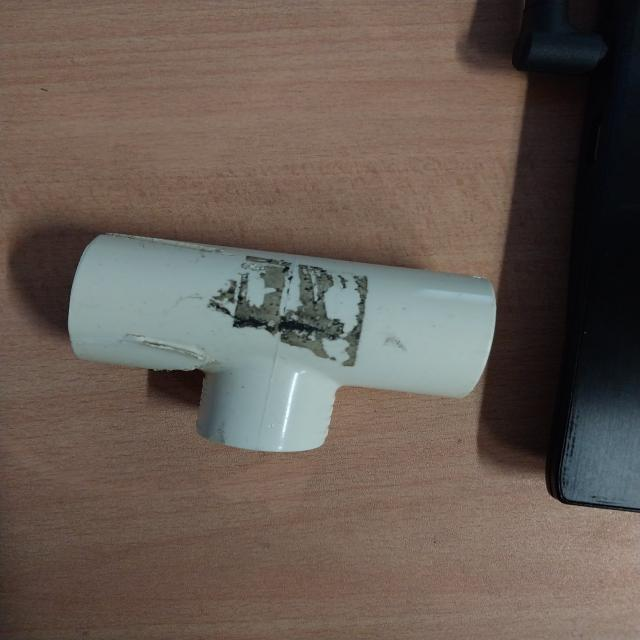Defective: (234, 246, 384, 380), (109, 326, 208, 384)
T Joint: (66, 233, 498, 454)
